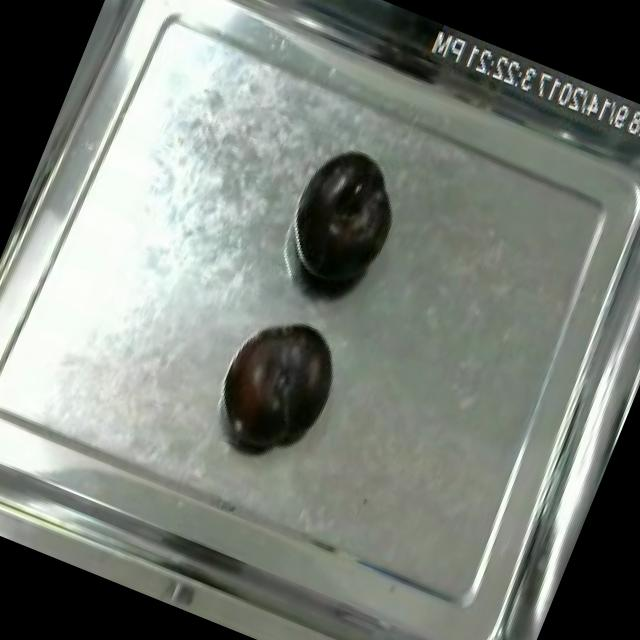Fruit: (272, 134, 418, 308), (206, 302, 356, 467)
